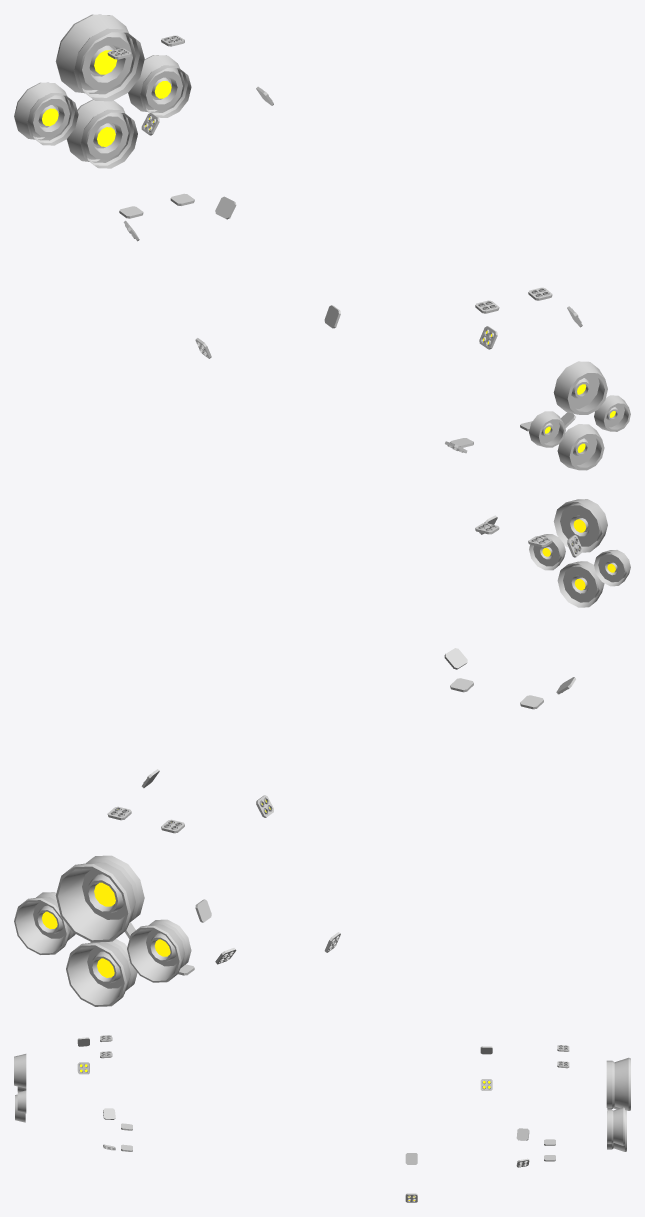
The model's file is CH Moccotar_Thruster_Adjustment.fbx.
The picture shows the model from 3 angles, top to bottom: view 1: azimuth 30°, elevation 25°; view 2: azimuth 150°, elevation 25°; view 3: azimuth 270°, elevation 25°; orthographic projection. The views are drawn at different scales.
Parts seen in each view (by area): view 1: CH_Moccotar_Engines_LOD0, CH_Moccotar_Engines_Glow_LOD0; view 2: CH_Moccotar_Engines_LOD0, CH_Moccotar_Engines_Glow_LOD0; view 3: CH_Moccotar_Engines_LOD0.
Boxes of the visible parts, <box> form: CH_Moccotar_Engines_LOD0: <box>14,14,630,470</box>; CH_Moccotar_Engines_Glow_LOD0: <box>42,50,615,452</box>; CH_Moccotar_Engines_LOD0: <box>14,499,630,1006</box>; CH_Moccotar_Engines_Glow_LOD0: <box>42,519,615,977</box>; CH_Moccotar_Engines_LOD0: <box>14,1035,630,1202</box>.
Size of what is drawn, in the model's own units: 384 by 1974 by 490.
